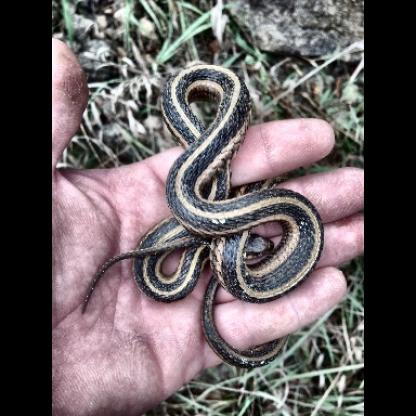Snake: (138, 63, 325, 367)
